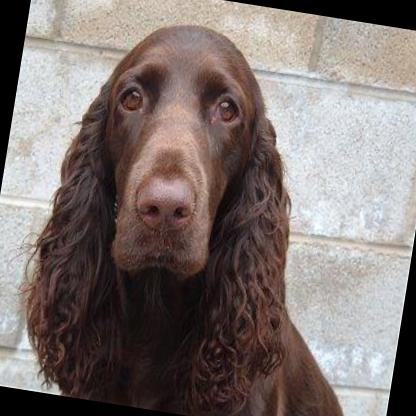Sussex_spaniel: (8, 1, 416, 416)
